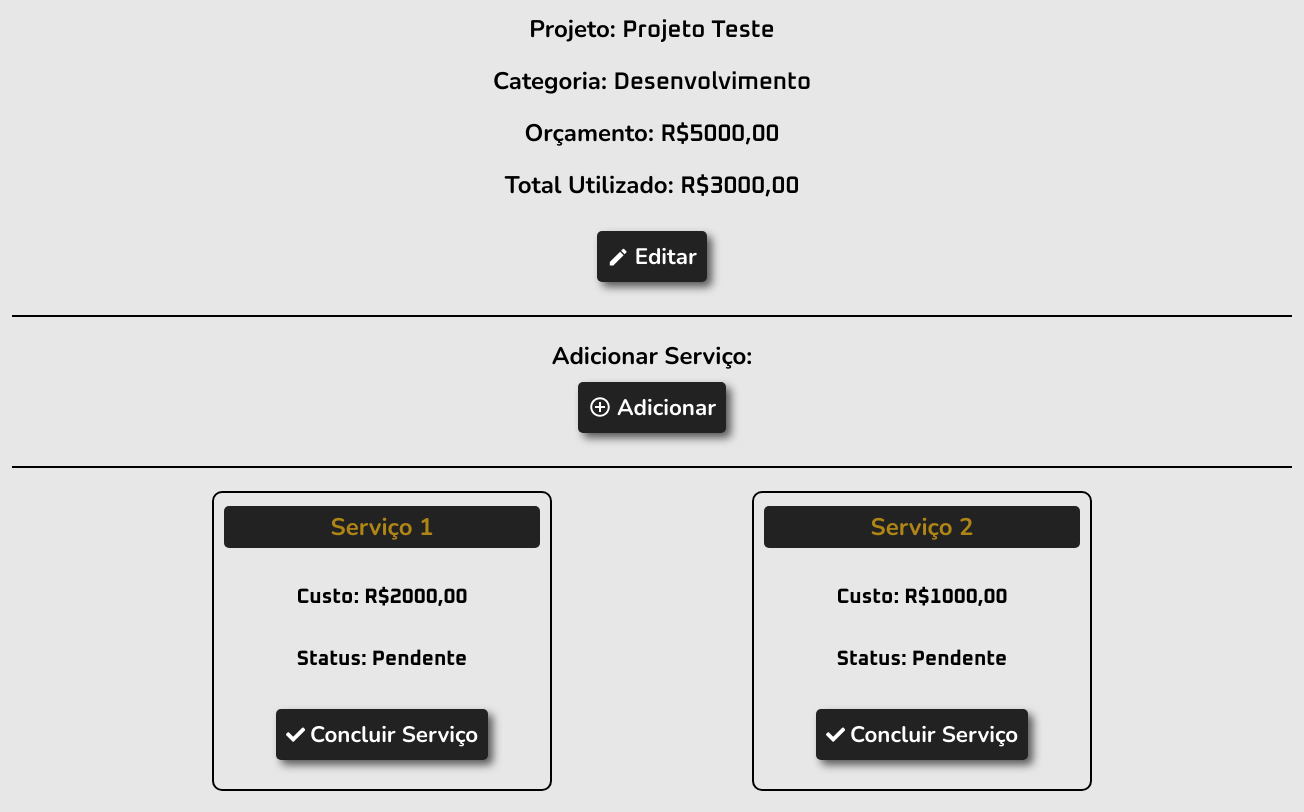
Test case: Página de Edição de Projeto - Teste de Integração › deve alternar para o formulário de criação de serviço ao clicar no botão "Adicionar"
Step 1. Click the button "Adicionar" → (652, 408), box [578, 382, 726, 433]
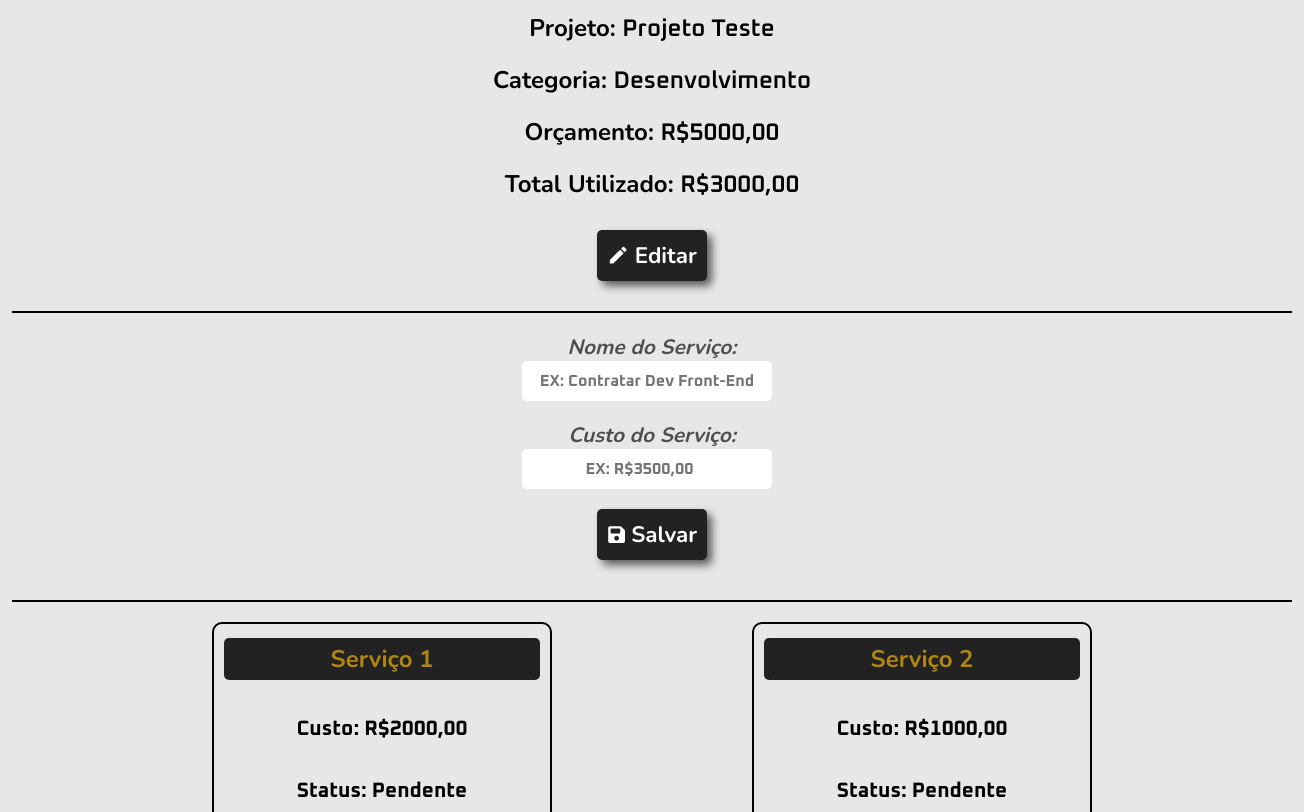
Expected: the field labelled "Nome do Serviço:" is shown, [522, 361, 772, 401]
Expected: the number field labelled "Custo do Serviço:" is shown, [522, 449, 772, 489]
